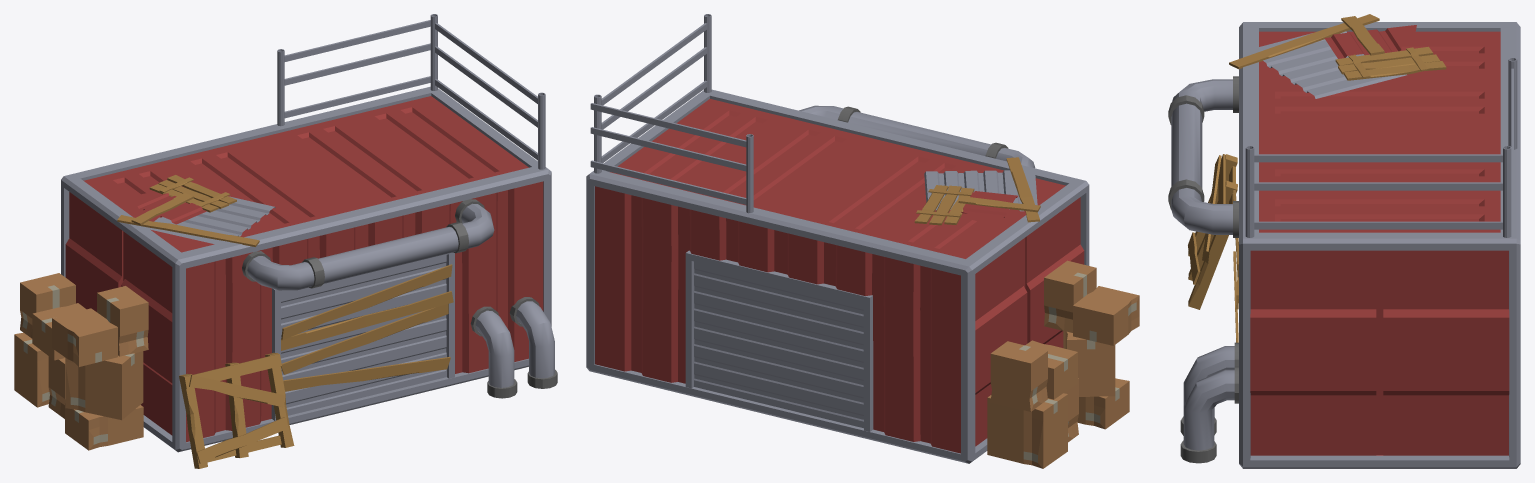
Rendered from prop-structure-1.glb.
The picture shows the model from 3 angles, left to right: view 1: azimuth 30°, elevation 25°; view 2: azimuth 150°, elevation 25°; view 3: azimuth 270°, elevation 25°; orthographic projection. The views are drawn at different scales.
Parts seen in each view (by area): view 1: Structure_1; view 2: Structure_1; view 3: Structure_1.
Part boxes in pixels (x1,y1,x2,y2): Structure_1: [14, 14, 557, 468]; Structure_1: [586, 14, 1139, 468]; Structure_1: [1168, 14, 1520, 468].
Size of the model in its own units: 7.98 by 4.56 by 4.52.
